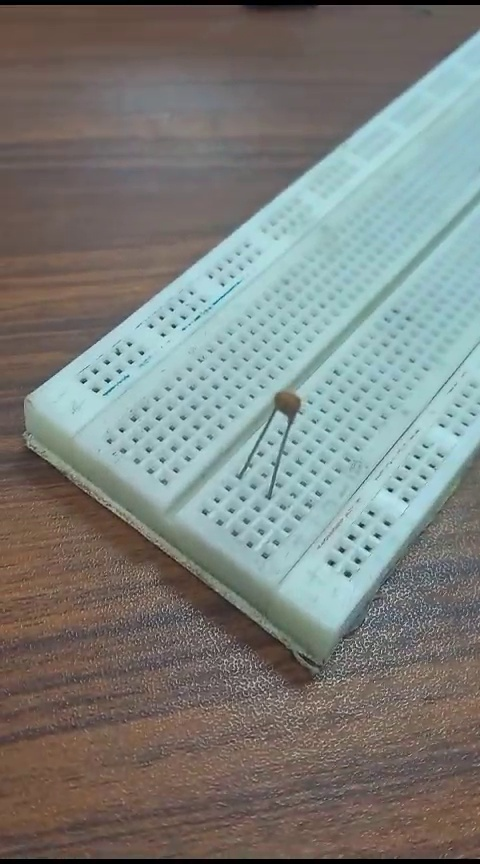ceramic capacitor: (242, 380, 324, 487)
